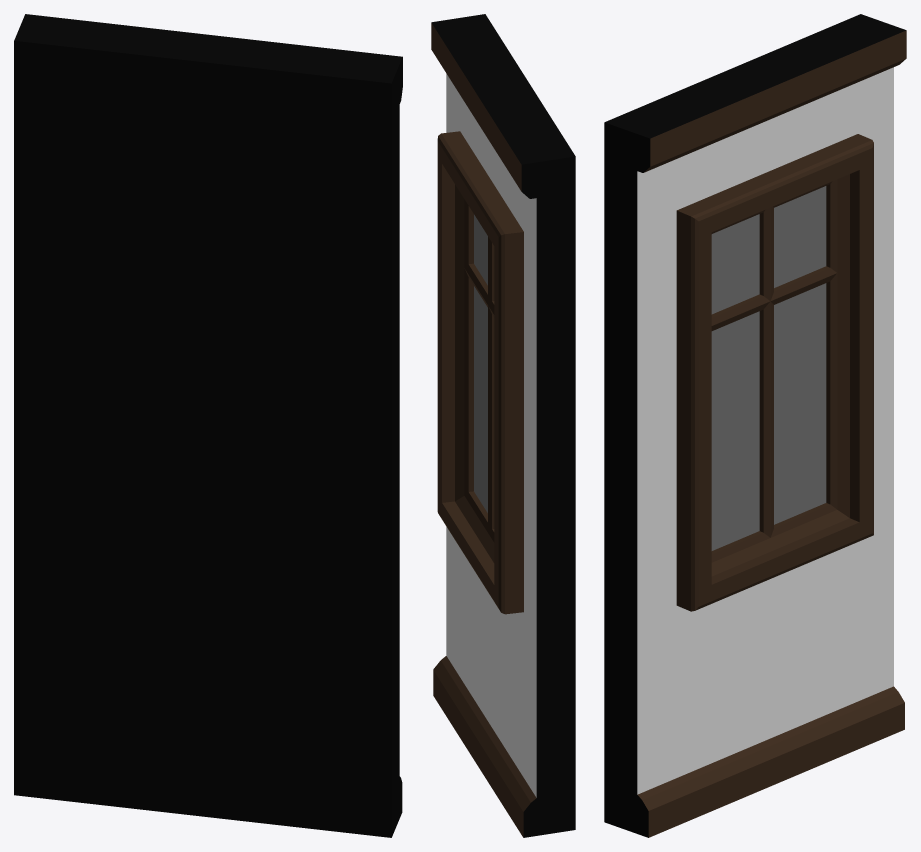
File: Wall_02_Window_corner.fbx
3 renders of one model, left to right at view 1: azimuth 30°, elevation 25°; view 2: azimuth 150°, elevation 25°; view 3: azimuth 270°, elevation 25°, orthographic. The views are drawn at different scales.
Visible parts, largest first — view 1: Cube.149; view 2: Cube.149; view 3: Cube.149.
Part boxes in pixels (x1=…): Cube.149: x1=14, y1=14, x2=402, y2=837; Cube.149: x1=431, y1=14, x2=575, y2=837; Cube.149: x1=604, y1=14, x2=906, y2=837.
Size of the model in its own units: 1.18 by 1.15 by 3.01.
